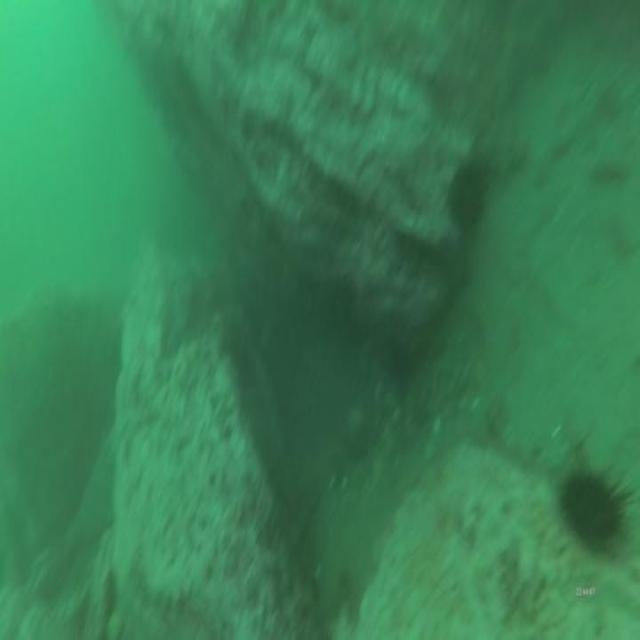echinus: (555, 452, 632, 555), (445, 161, 487, 237)
